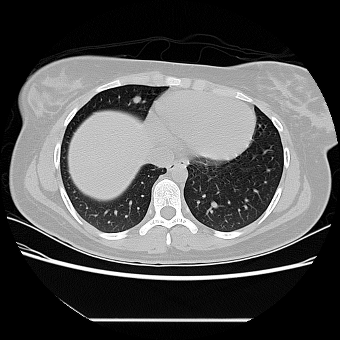nodule: (133, 95, 141, 103)
